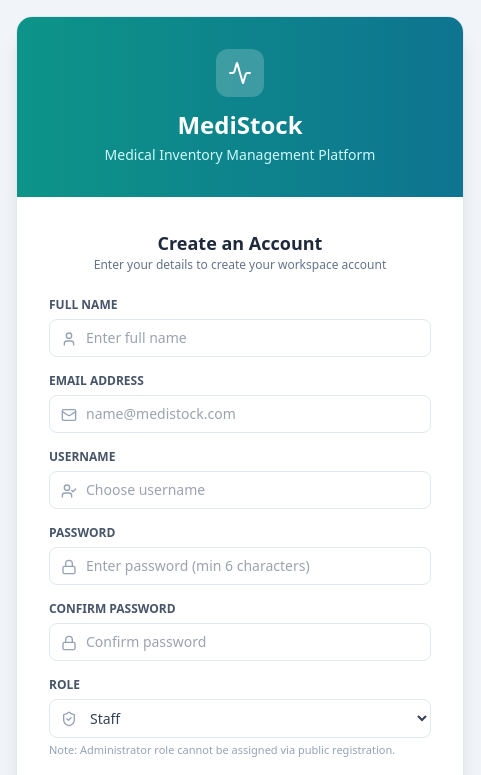
Test case: MediStock Frontend Components › Create Account Page (Register) › validates email format
Type "Alex Morgan" into the field with placeholder "Enter full name" at coordinates (240, 338), box x1=49 y1=319 x2=431 y2=357
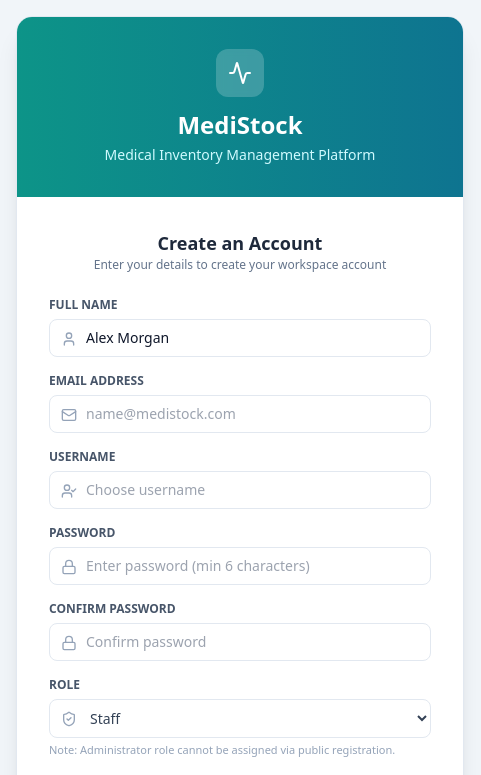
Type "invalid-email" into the field with placeholder "name@medistock.com" at coordinates (240, 414), box x1=49 y1=395 x2=431 y2=433
(page scrolled)
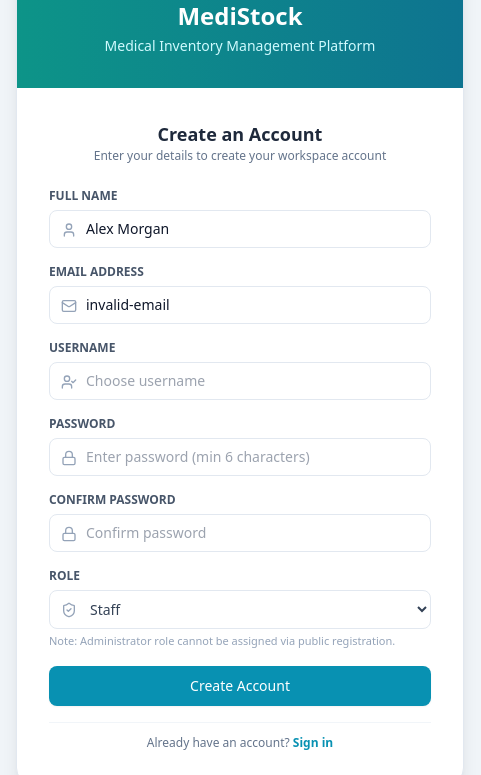
Click the button "Create Account" at coordinates (240, 686), box x1=49 y1=666 x2=431 y2=706
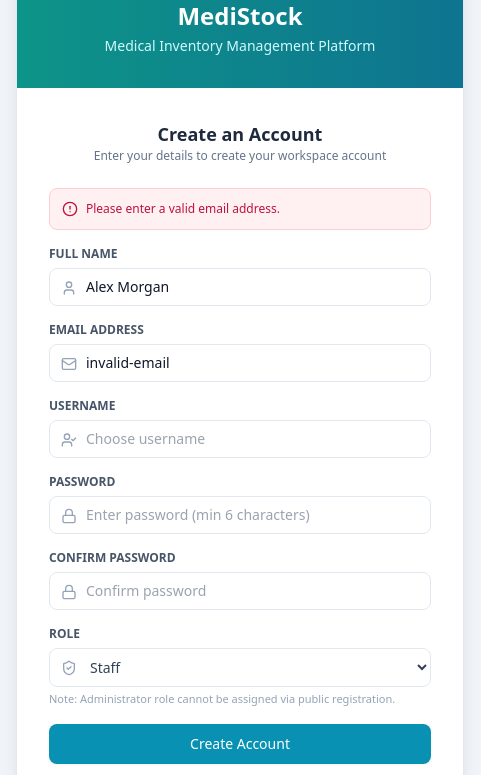
Check: the text "Please enter a valid email address." is shown, box x1=86 y1=201 x2=280 y2=217
